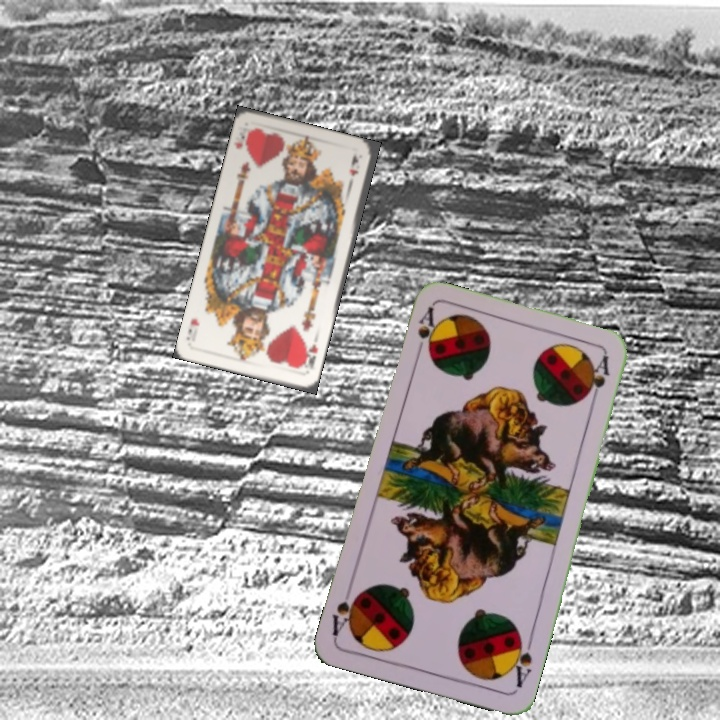HK: (298, 340, 320, 372), (231, 123, 253, 151)
SA: (505, 630, 536, 691), (411, 303, 438, 362)
